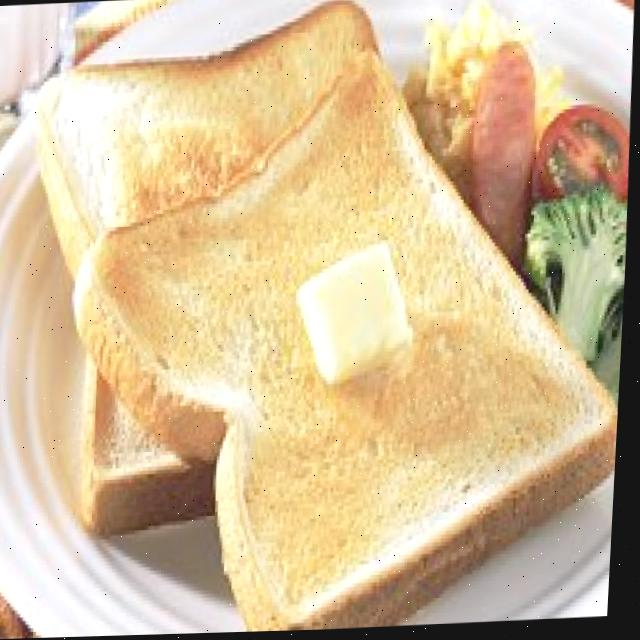面包点心: (0, 9, 639, 631)
